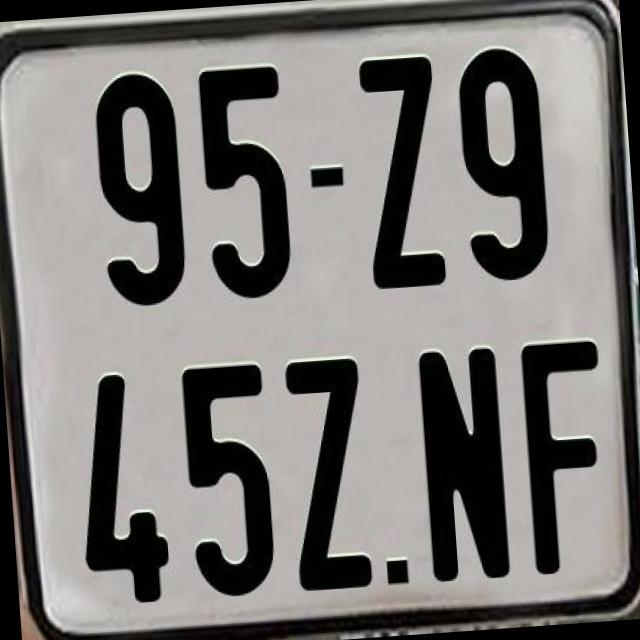4: (68, 368, 168, 612)
5: (180, 357, 285, 603), (193, 62, 294, 298)
9: (452, 43, 556, 284), (90, 68, 188, 312)
F: (516, 336, 617, 580)
N: (416, 341, 518, 581)
Z: (354, 51, 450, 291), (282, 353, 376, 592)
